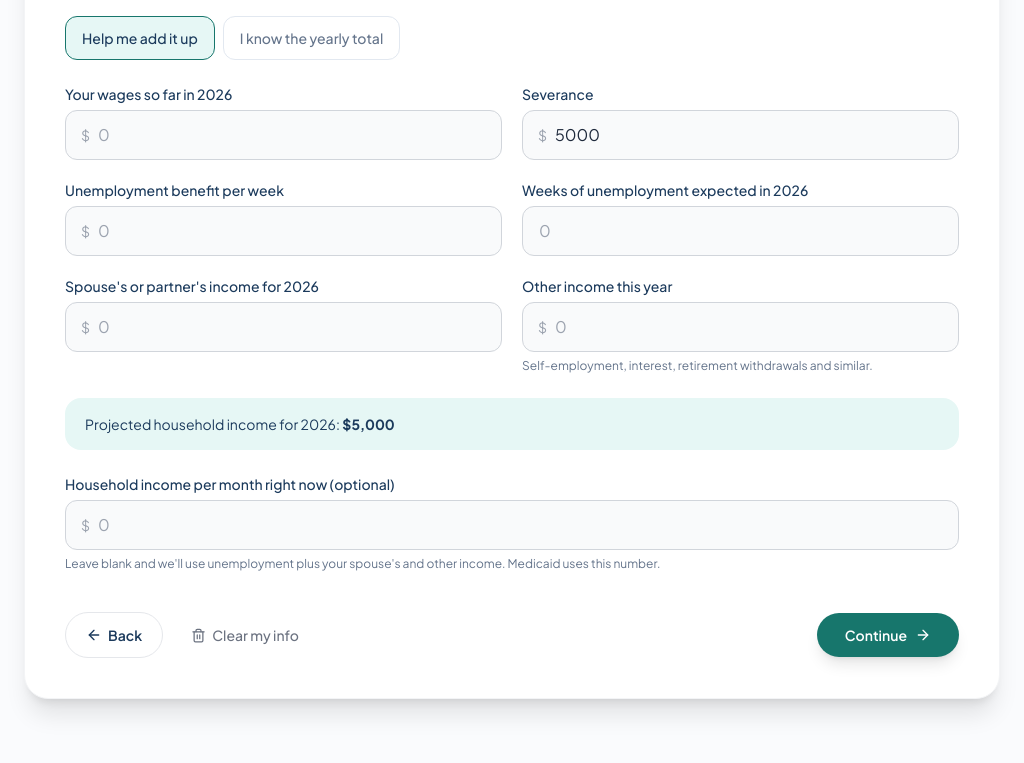
Test case: TransitionFlow › restores progress from sessionStorage and "Clear my info" wipes it
(page scrolled)
Expected: the field labelled "Severance" holds "5000", [522,110,959,160]
Click the button "Clear my info": (245, 635) [175,612,315,658]
(page scrolled)
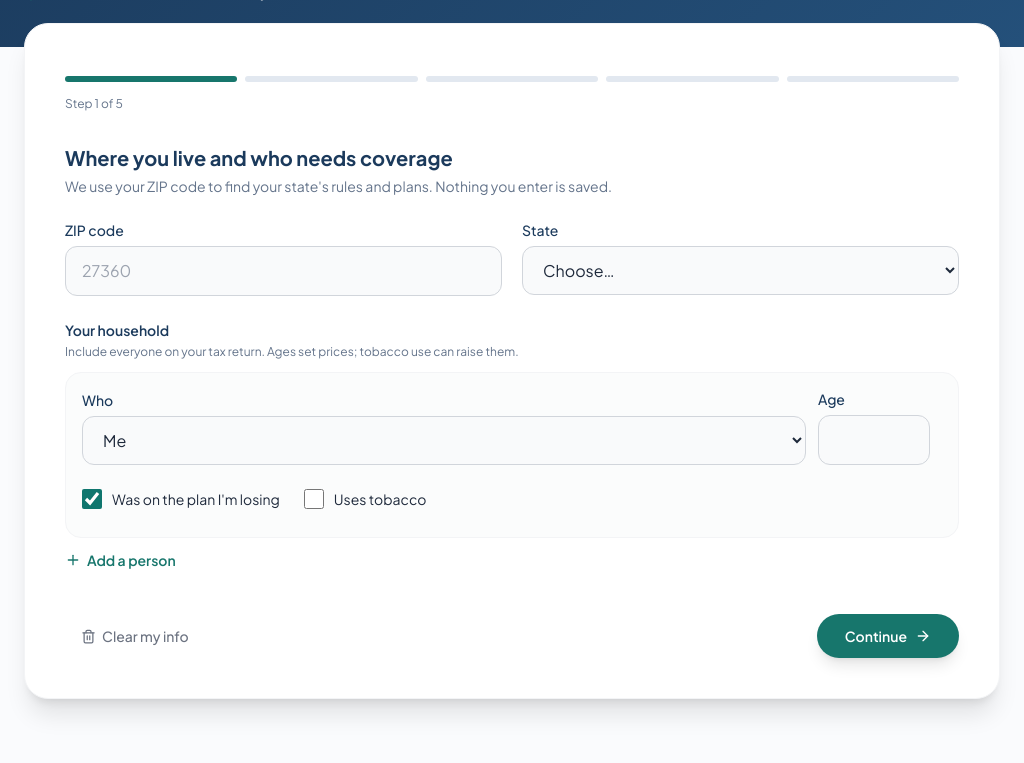
Expected: the text "Step 1 of 5" is shown, [65,96,123,111]
